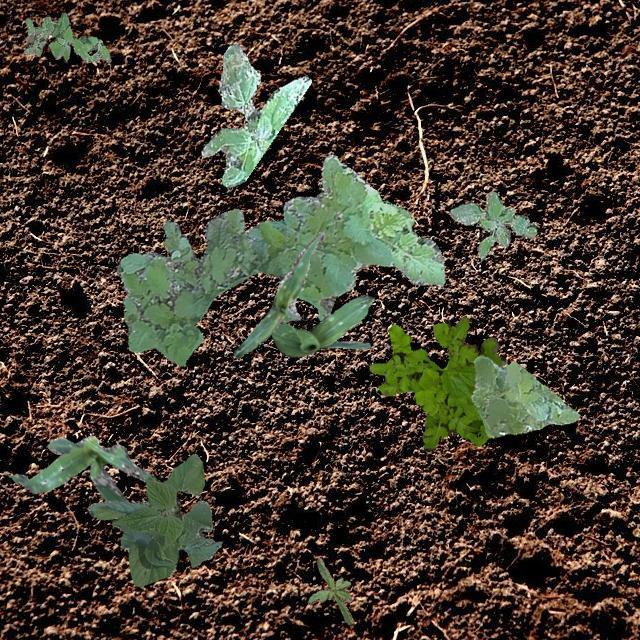crop: (86, 452, 222, 586), (7, 434, 180, 506), (232, 230, 324, 356), (270, 294, 372, 356)
weed: (116, 153, 443, 364), (368, 316, 506, 451), (200, 42, 310, 188), (471, 354, 578, 436), (448, 190, 536, 258), (22, 12, 110, 62), (306, 556, 352, 624)
